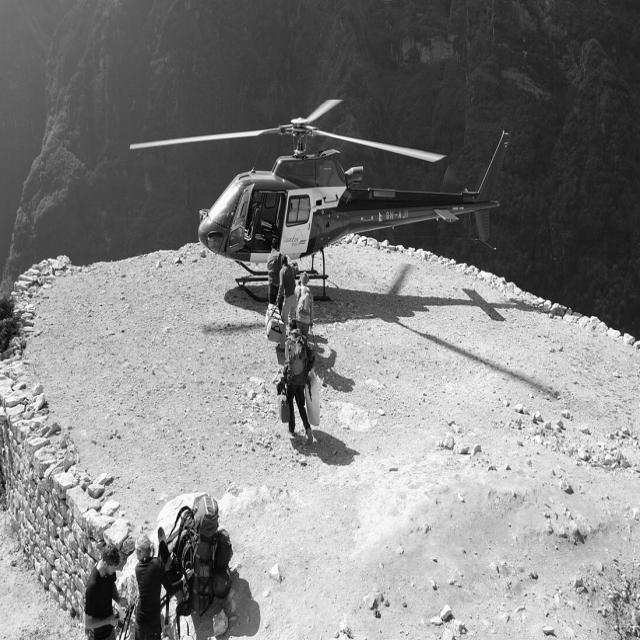helicopter: (136, 101, 524, 295)
